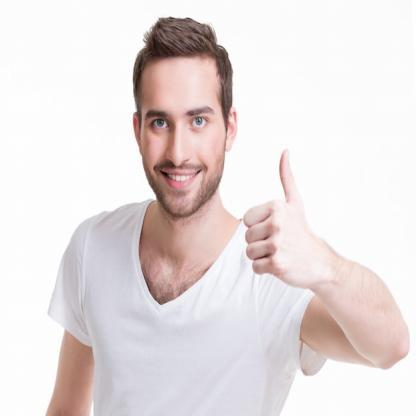thumb_up: (242, 145, 325, 292)
